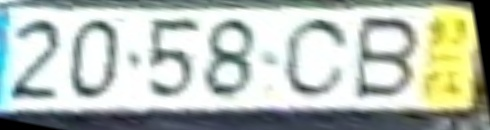0: (68, 19, 125, 103)
2: (10, 20, 67, 103)
5: (145, 18, 203, 103)
8: (201, 16, 263, 101)
B: (355, 16, 423, 101)
C: (283, 16, 356, 101)
